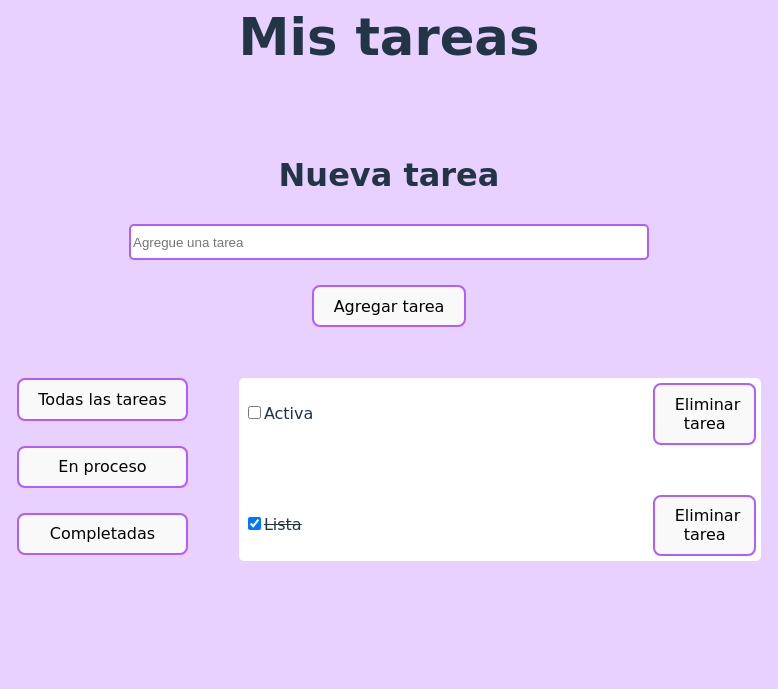
Scenario: CrudApp (integración de todas las partes) › agrega una tarea y se puede filtrar
This screenshot has width=778, height=689.
Step 1. Type "Nueva" into the field with placeholder "Agregue una tarea" → (389, 242), box 129,224 -> 649,260
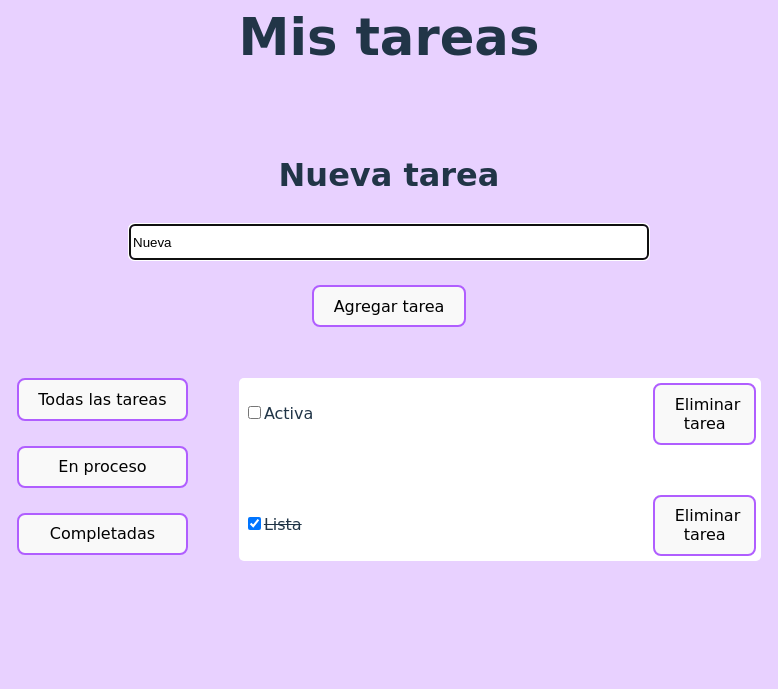
Step 2. Click the button "Agregar tarea" → (389, 306), box 312,285 -> 466,327
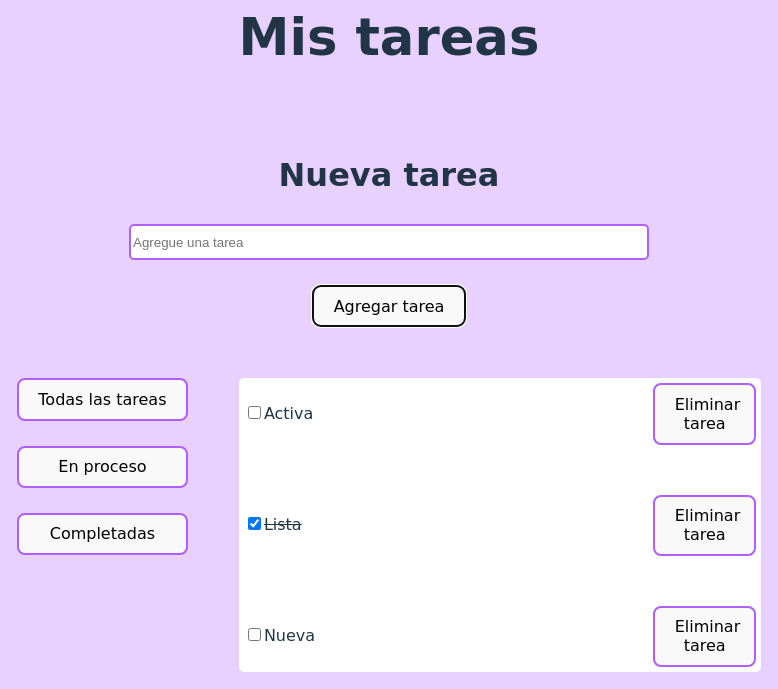
Now the text "Nueva" is shown, box 264,626 -> 315,645
# Filtrar 'En proceso'
Step 3. Click the button "En proceso" → (102, 467), box 17,446 -> 188,488
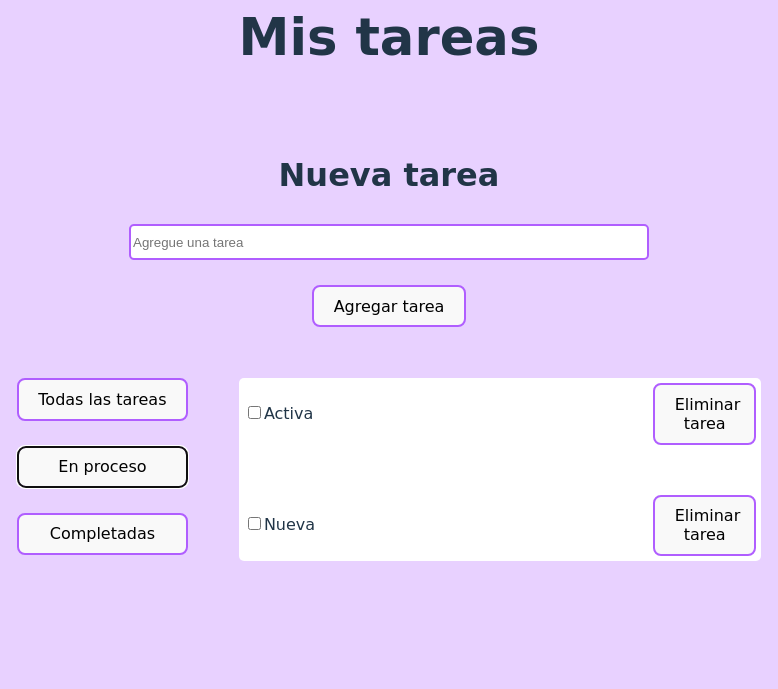
Expected: the text "Activa" is shown, 264,404 -> 313,423
Now the text "Nueva" is shown, box 264,515 -> 315,534
Now the text "Lista" is gone
# Filtrar 'Comlpetadas'
Step 4. Click the button "Completadas" → (102, 534), box 17,513 -> 188,555
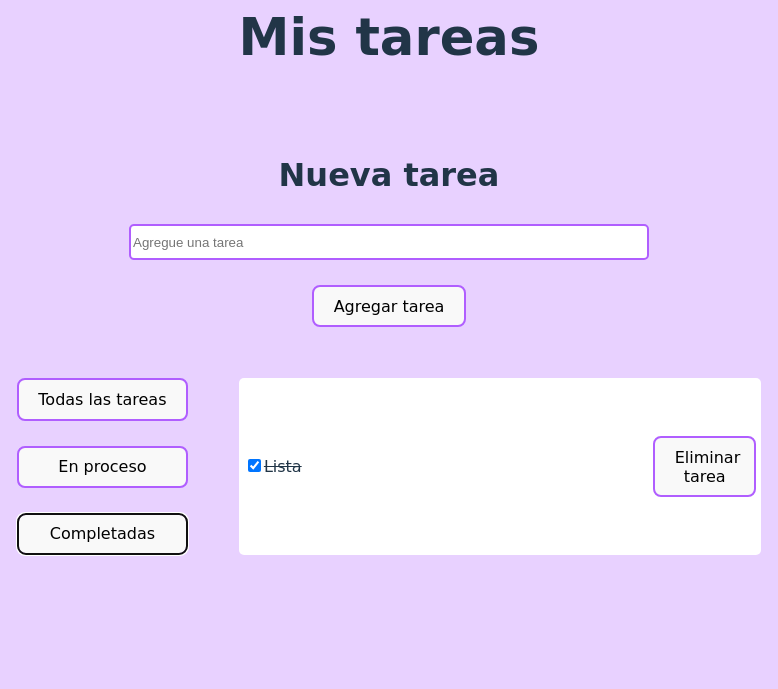
Now the text "Lista" is shown, box 264,457 -> 302,476
Now the text "Activa" is gone
